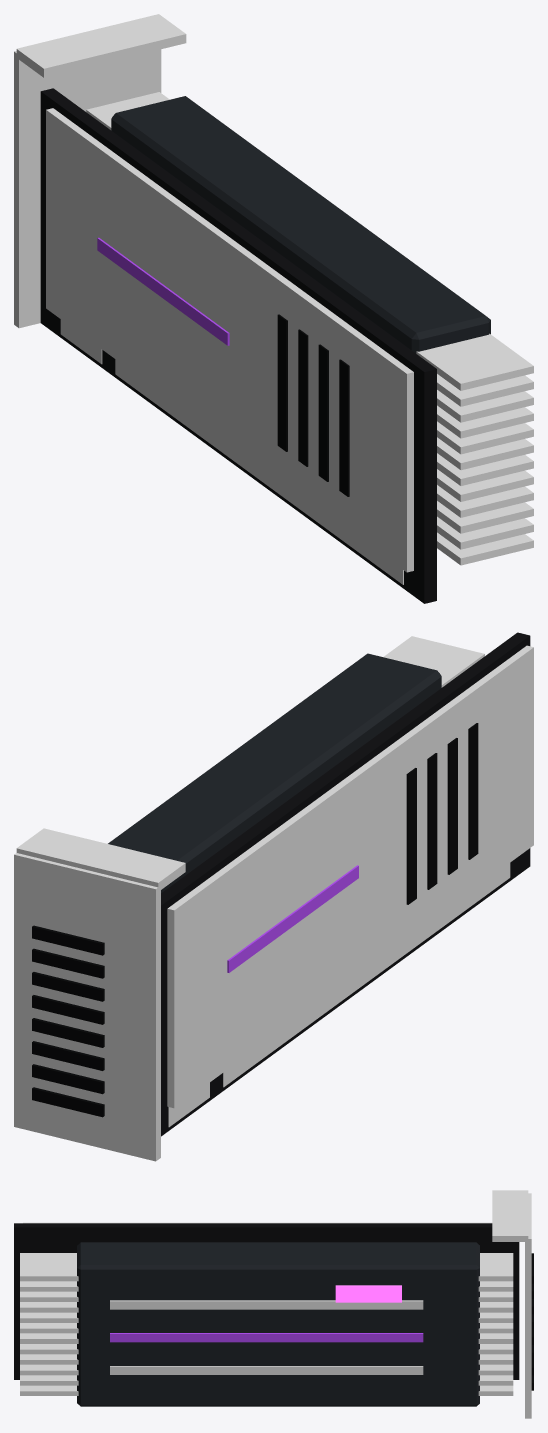
File: hw_gpu_tesla_p4.glb
The picture shows the model from 3 angles, top to bottom: view 1: azimuth 30°, elevation 25°; view 2: azimuth 150°, elevation 25°; view 3: azimuth 270°, elevation 25°; orthographic projection. The views are drawn at different scales.
Visible parts, largest first — view 1: Body; view 2: Body; view 3: Body.
Part boxes in pixels (x1,y1,x2,y2): Body: (14, 14, 533, 603); Body: (14, 632, 533, 1161); Body: (14, 1190, 533, 1418).
Bounding box in the file's own units: 0.036 × 0.0671 × 0.1729.
